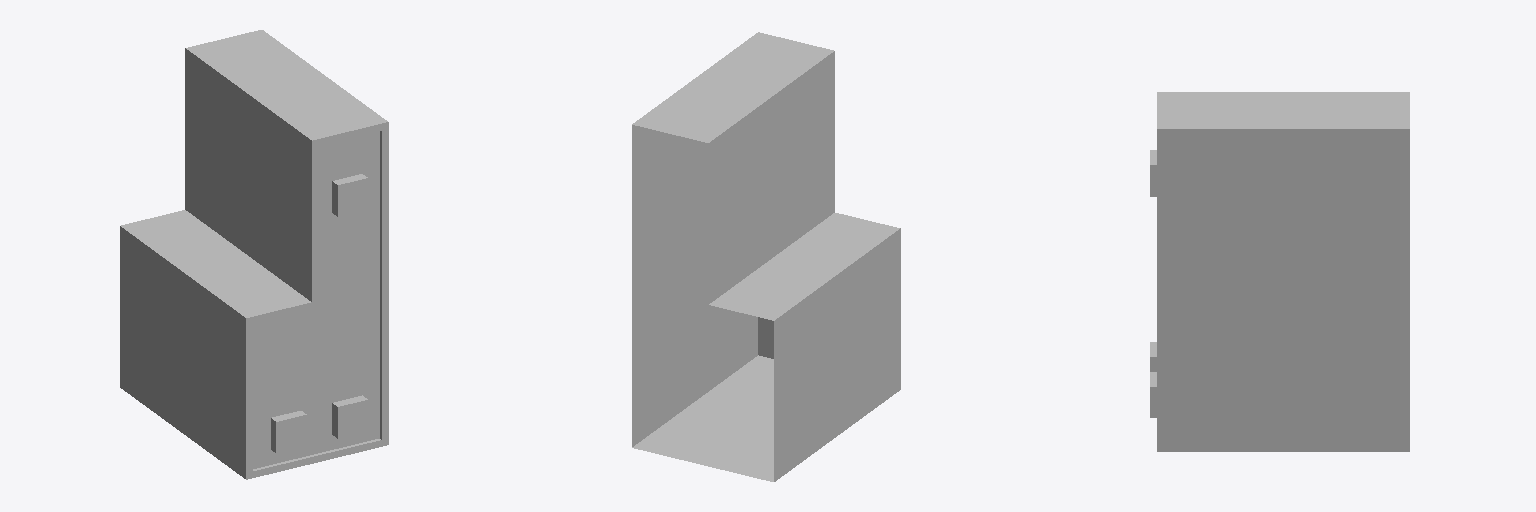
The model's file is tower24.obj.
The picture shows the model from 3 angles: view 1: azimuth 30°, elevation 25°; view 2: azimuth 150°, elevation 25°; view 3: azimuth 270°, elevation 25°; orthographic projection.
Parts seen in each view (by area): view 1: tower24; view 2: tower24; view 3: tower24.
Boxes of the visible parts, x1,y1,x2,y2 form: tower24: [120, 30, 388, 479]; tower24: [632, 32, 900, 481]; tower24: [1150, 92, 1409, 451].
Size of the model in its own units: 11.67 by 25.34 by 18.48.